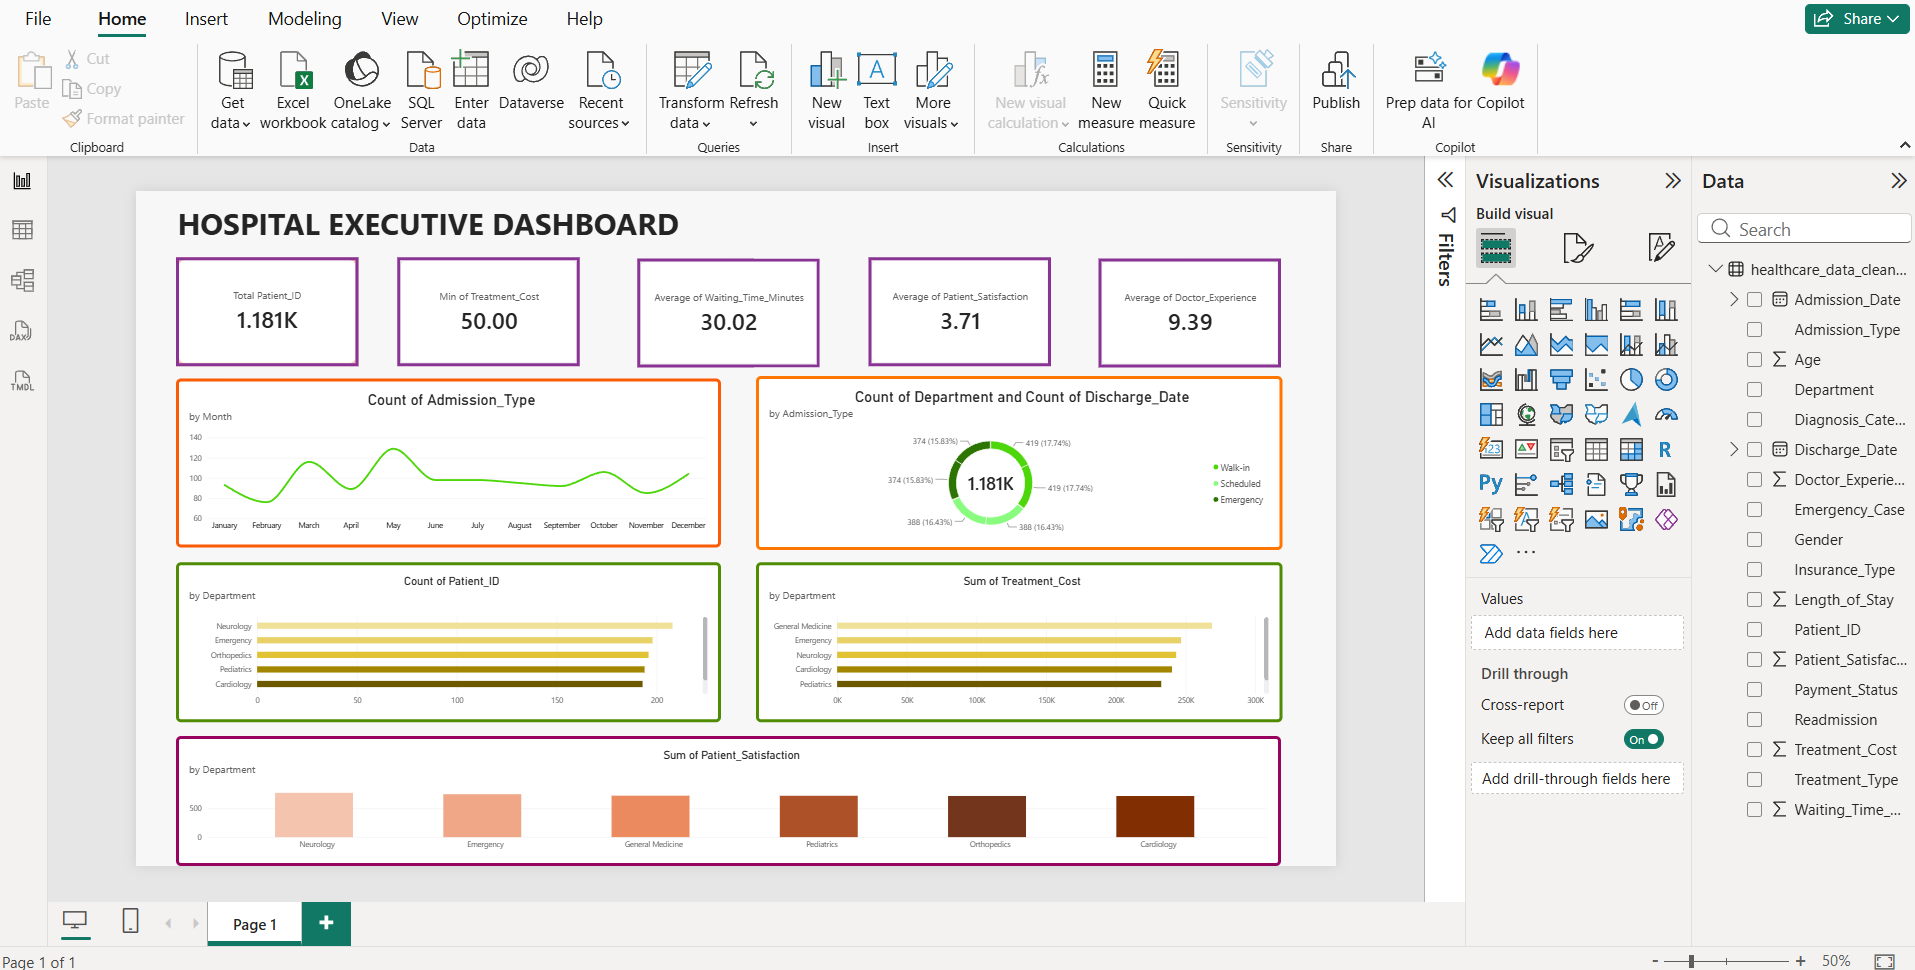

This screenshot's page, from the dashboard's own definition file:
{"tool":"powerbi","page":{"name":"Page 1","canvas":[1920,1080],"ordinal":0},"visuals":[{"type":"textbox","box":[0,0,1920,106],"z":0},{"type":"cardVisual","fields":{"Data":["CountNonNull(healthcare_data_cleaned.Patient_ID)"]},"box":[64,106,292,174],"z":1000},{"type":"cardVisual","fields":{"Data":["Avg(healthcare_data_cleaned.Patient_Satisfaction)"]},"box":[1172,106,292,174],"z":2000},{"type":"cardVisual","fields":{"Data":["Avg(healthcare_data_cleaned.Waiting_Time_Minutes)"]},"box":[802,108,292,174],"z":3000},{"type":"cardVisual","fields":{"Data":["Min(healthcare_data_cleaned.Treatment_Cost)"]},"box":[418,106,292,174],"z":4000},{"type":"cardVisual","fields":{"Data":["Avg(healthcare_data_cleaned.Doctor_Experience)"]},"box":[1540,108,292,174],"z":5000},{"type":"lineChart","fields":{"Category":["healthcare_data_cleaned.Admission_Date.Variation.Date Hierarchy.Month"],"Y":["CountNonNull(healthcare_data_cleaned.Admission_Type)"]},"box":[64,300,872,270],"z":5001},{"type":"donutChart","fields":{"Category":["healthcare_data_cleaned.Admission_Type"],"Y":["CountNonNull(healthcare_data_cleaned.Department)","CountNonNull(healthcare_data_cleaned.Discharge_Date)"]},"box":[992,296,842,278],"z":5002},{"type":"clusteredBarChart","fields":{"Category":["healthcare_data_cleaned.Department"],"Y":["CountNonNull(healthcare_data_cleaned.Patient_ID)"]},"box":[64,594,872,256],"z":5003},{"type":"clusteredBarChart","fields":{"Category":["healthcare_data_cleaned.Department"],"Y":["Sum(healthcare_data_cleaned.Treatment_Cost)"]},"box":[992,594,842,256],"z":5004},{"type":"columnChart","fields":{"Category":["healthcare_data_cleaned.Department"],"Y":["Sum(healthcare_data_cleaned.Patient_Satisfaction)"]},"box":[64,872,1768,208],"z":5005}]}

Visuals, with their boxes on the page's 1920x1080 design canvas (x1, y1, x2, y2). These are canvas units, not pixel positions in the 1915x970 screenshot, which may show the page scaled, cropped or inside an application window:
textbox: region(0, 0, 1920, 106)
cardVisual - CountNonNull(healthcare_data_cleaned.Patient_ID): region(64, 106, 356, 280)
cardVisual - Avg(healthcare_data_cleaned.Patient_Satisfaction): region(1172, 106, 1464, 280)
cardVisual - Avg(healthcare_data_cleaned.Waiting_Time_Minutes): region(802, 108, 1094, 282)
cardVisual - Min(healthcare_data_cleaned.Treatment_Cost): region(418, 106, 710, 280)
cardVisual - Avg(healthcare_data_cleaned.Doctor_Experience): region(1540, 108, 1832, 282)
lineChart - healthcare_data_cleaned.Admission_Date.Variation.Date Hierarchy.Month x CountNonNull(healthcare_data_cleaned.Admission_Type): region(64, 300, 936, 570)
donutChart - healthcare_data_cleaned.Admission_Type x CountNonNull(healthcare_data_cleaned.Department): region(992, 296, 1834, 574)
clusteredBarChart - healthcare_data_cleaned.Department x CountNonNull(healthcare_data_cleaned.Patient_ID): region(64, 594, 936, 850)
clusteredBarChart - healthcare_data_cleaned.Department x Sum(healthcare_data_cleaned.Treatment_Cost): region(992, 594, 1834, 850)
columnChart - healthcare_data_cleaned.Department x Sum(healthcare_data_cleaned.Patient_Satisfaction): region(64, 872, 1832, 1080)
